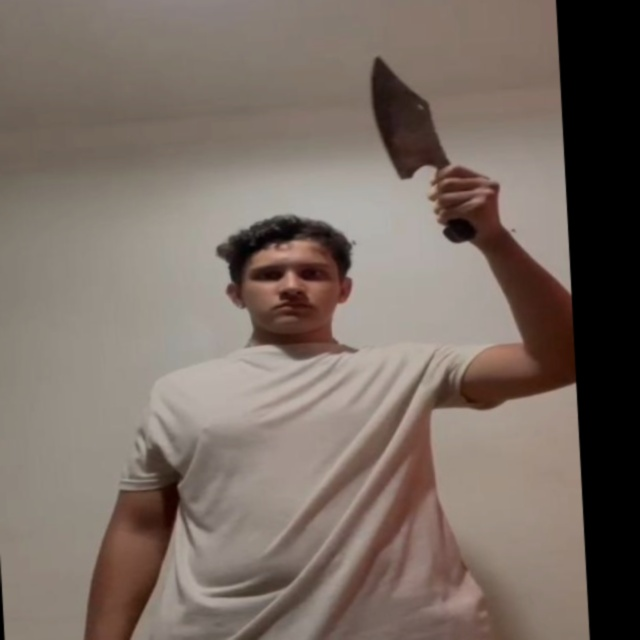Sharp-Object: (367, 50, 451, 182)
